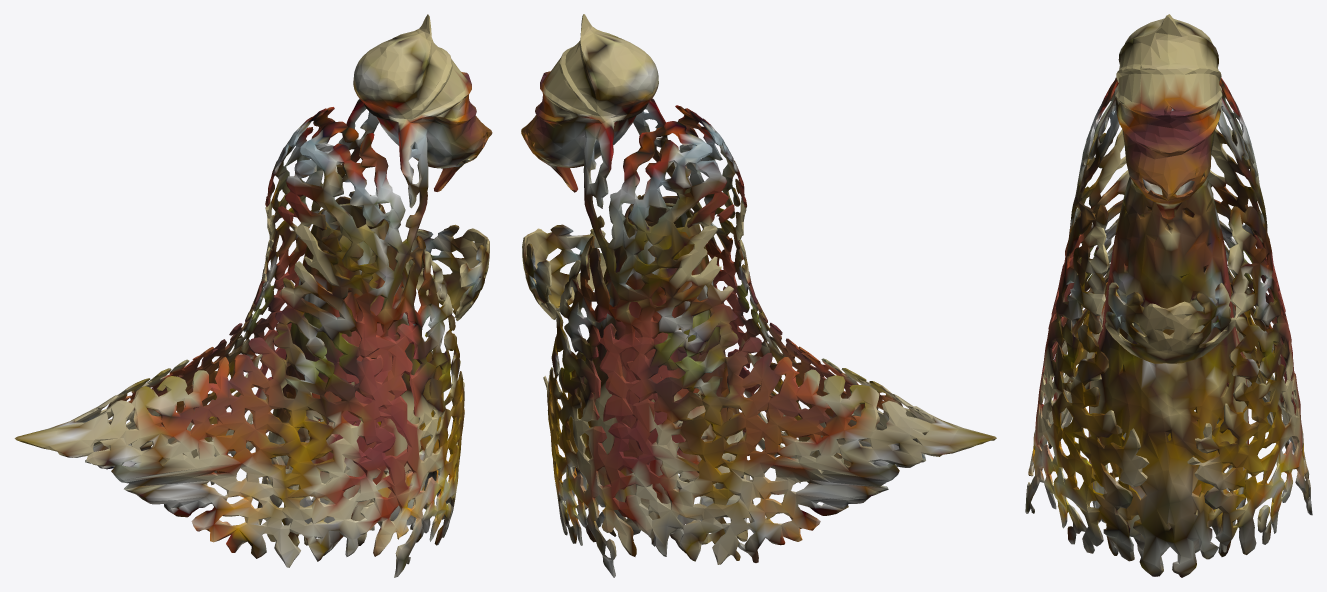
File: dragonKing.glb
3 renders of one model, left to right at view 1: azimuth 30°, elevation 25°; view 2: azimuth 150°, elevation 25°; view 3: azimuth 270°, elevation 25°, orthographic. The views are drawn at different scales.
Parts seen in each view (by area): view 1: world; view 2: world; view 3: world.
Part boxes in pixels (x1,y1,x2,y2): world: [14, 14, 492, 577]; world: [521, 14, 996, 577]; world: [1025, 14, 1312, 577].
Size of the model in its own units: 0.9945 by 1 by 0.464.
